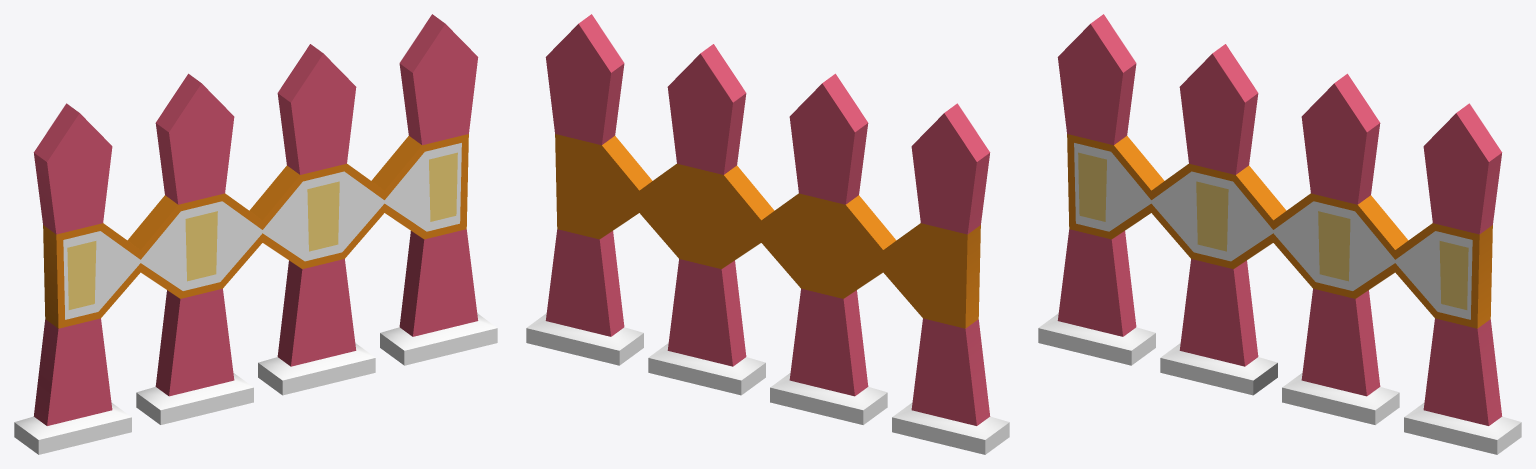
The model's file is Ultari2-1.fbx.
3 views of the same model, side by side, from view 1: azimuth 30°, elevation 25°; view 2: azimuth 150°, elevation 25°; view 3: azimuth 330°, elevation 25° (orthographic).
Visible parts, largest first — view 1: Ultari1-1; view 2: Ultari1-1; view 3: Ultari1-1.
Boxes of the visible parts, x1,y1,x2,y2 form: Ultari1-1: (14,14,497,454); Ultari1-1: (526,14,1009,454); Ultari1-1: (1038,14,1521,454).
Bounding box in the file's own units: 0.4059 × 0.2759 × 0.0374.
